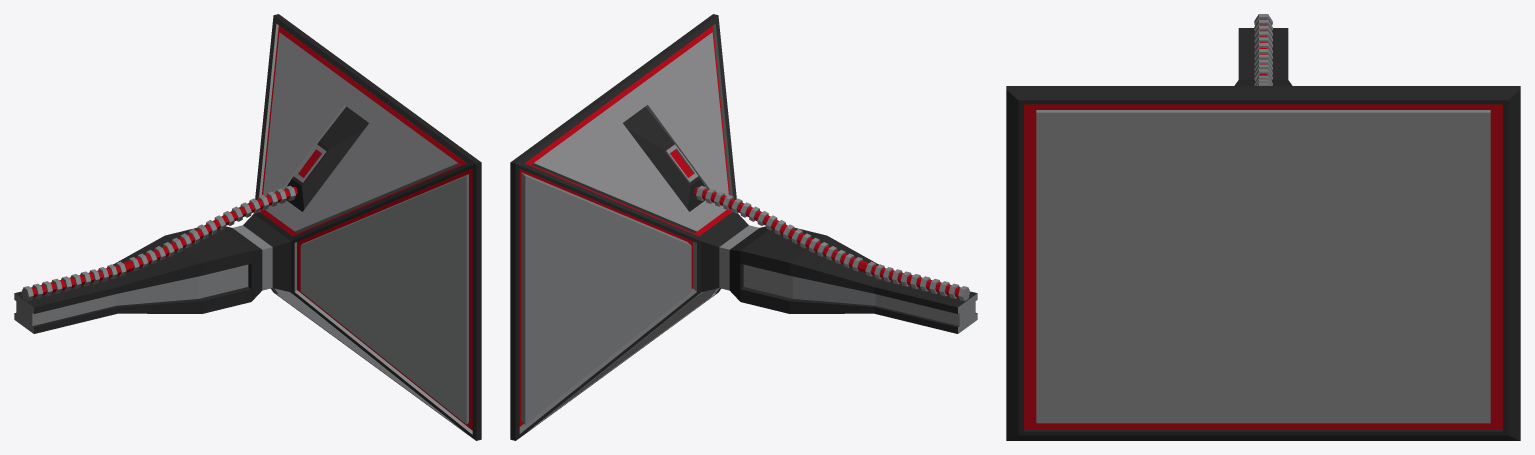
The model's file is WasteDisposalHoleRedCrusher.fbx.
3 renders of one model, left to right at view 1: azimuth 30°, elevation 25°; view 2: azimuth 150°, elevation 25°; view 3: azimuth 270°, elevation 25°, orthographic. The views are drawn at different scales.
Visible parts, largest first — view 1: CompactorRed; view 2: CompactorRed; view 3: CompactorRed.
Part boxes in pixels (x1,y1,x2,y2): CompactorRed: (14, 14, 481, 440); CompactorRed: (510, 14, 977, 440); CompactorRed: (1006, 14, 1520, 440).
Bounding box in the file's own units: 4.18 × 3.07 × 4.07.
